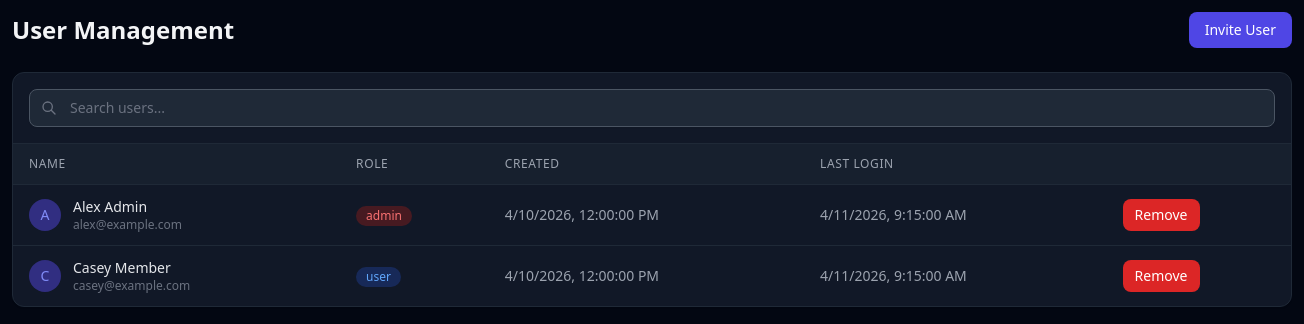
Test: UserManagementPage › renders live users from the service and filters by search text
The width and height of the screenshot is (1304, 324).
Expected: the text "Alex Admin" is shown, x1=73 y1=197 x2=147 y2=216
Expected: the text "Casey Member" is shown, x1=73 y1=258 x2=171 y2=277
Type "casey@example.com" into the field with placeholder "Search users..." at (652, 108), box x1=29 y1=89 x2=1275 y2=127
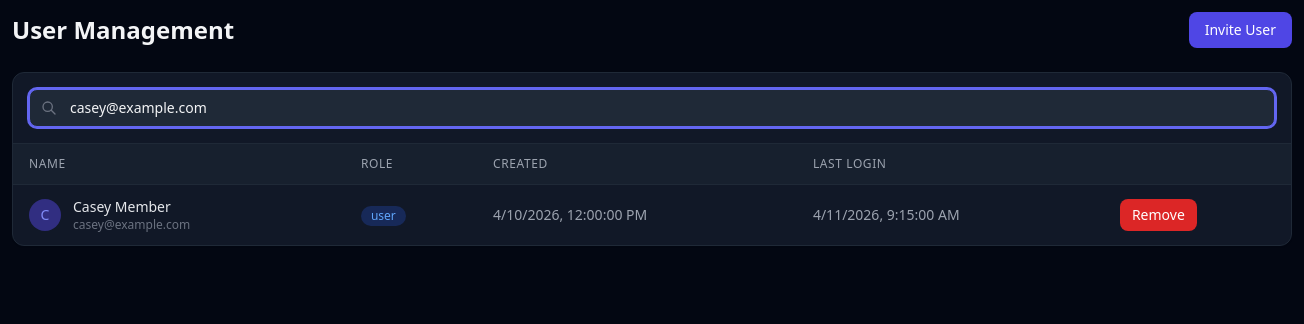
Expected: the text "Casey Member" is shown, x1=73 y1=197 x2=171 y2=216
Expected: the text "Alex Admin" is gone
